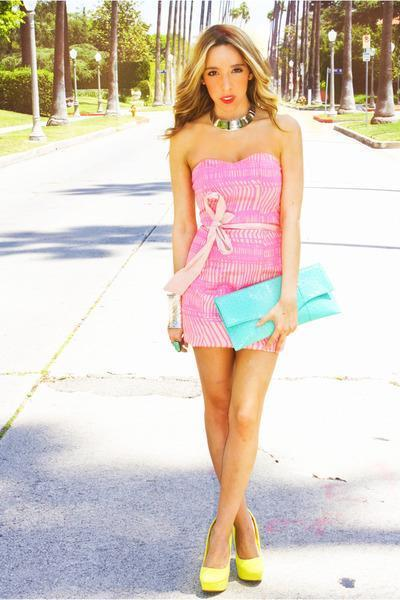bag: (214, 267, 338, 347)
dress: (166, 152, 283, 350)
shoe: (204, 540, 260, 587)
